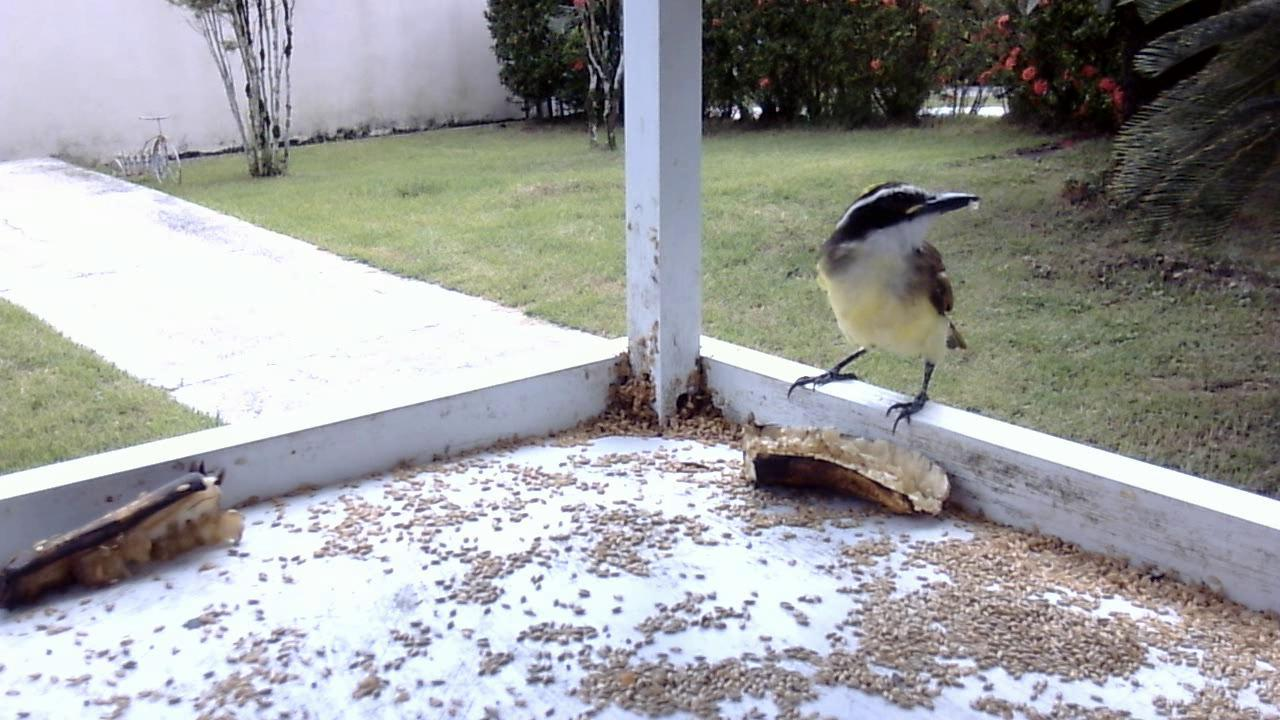bem_te_vi: (781, 174, 982, 442)
